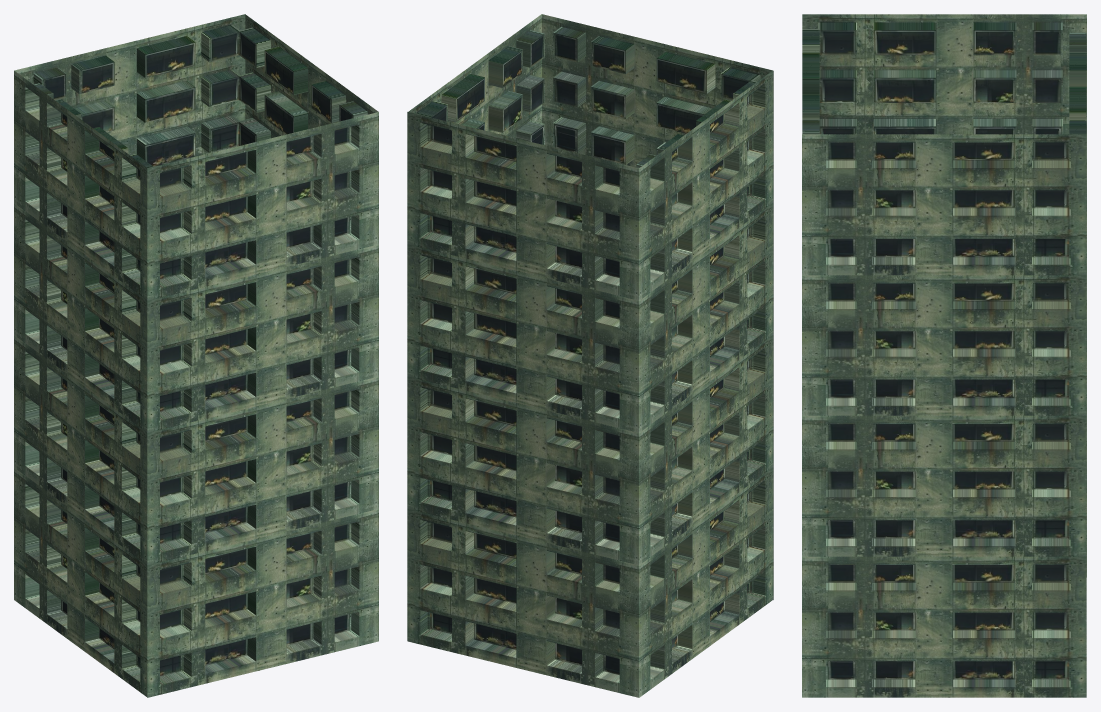
File: TestBuilding3.fbx
3 views of the same model, side by side, from view 1: azimuth 30°, elevation 25°; view 2: azimuth 150°, elevation 25°; view 3: azimuth 270°, elevation 25° (orthographic). The views are drawn at different scales.
Parts seen in each view (by area): view 1: build3pixel, build3pixel.003, build3pixel.002, build3pixel.001; view 2: build3pixel.002, build3pixel.003, build3pixel, build3pixel.001; view 3: build3pixel.001, build3pixel.003, build3pixel.002, build3pixel.
Part boxes in pixels (x1,y1,x2,y2): build3pixel: (147, 112, 378, 697); build3pixel.003: (14, 70, 153, 696); build3pixel.002: (14, 14, 245, 166); build3pixel.001: (239, 14, 378, 640); build3pixel.002: (407, 112, 638, 697); build3pixel.003: (636, 70, 772, 697); build3pixel: (542, 14, 773, 599); build3pixel.001: (408, 14, 544, 629); build3pixel.001: (802, 134, 1086, 697); build3pixel.003: (802, 14, 1086, 577); build3pixel.002: (1069, 32, 1086, 680); build3pixel: (802, 29, 819, 134).
Size of the model in its own units: 533 by 1161 by 532.
Materials: 1 (1 with a texture image).
